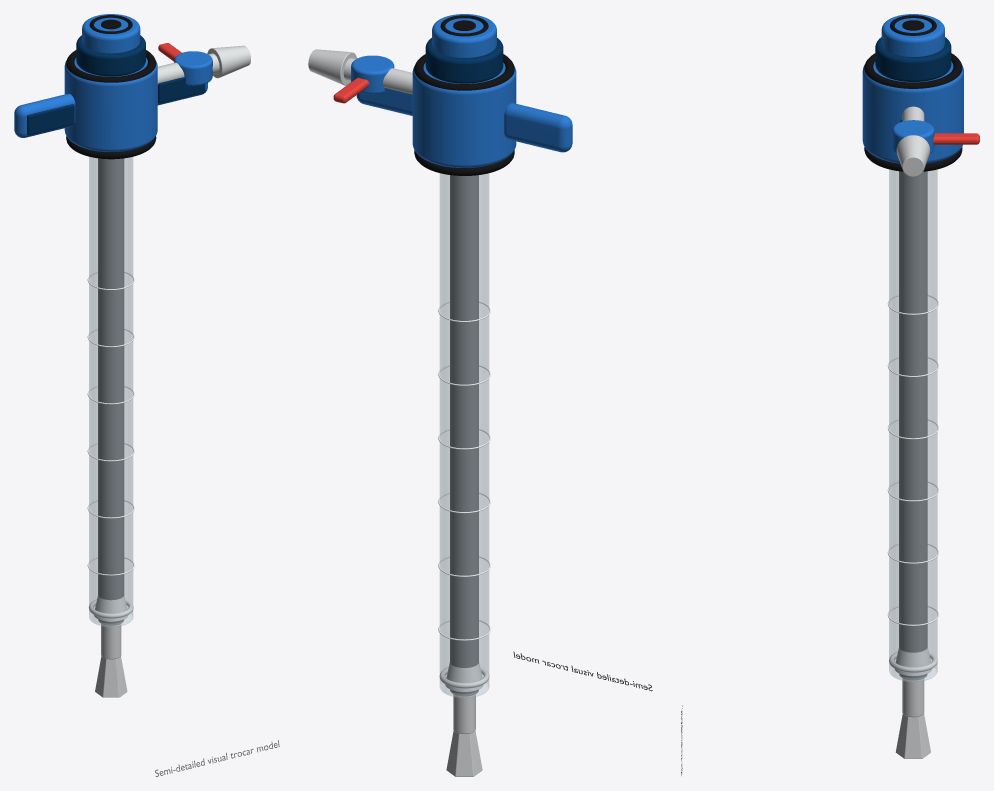
File: Trocarul.fbx
3 views of the same model, side by side, from view 1: azimuth 30°, elevation 25°; view 2: azimuth 150°, elevation 25°; view 3: azimuth 270°, elevation 25° (orthographic). The views are drawn at different scales.
Parts seen in each view (by area): view 1: transparent outer cannula tube, dark visible inner bore, blue proximal housing, dark rubber top seal, raised circular cap, left ergonomic grip wing, faceted conical obturator tip, round stopcock body, left grip rubber pad, side port tapered nozzle, upper black gasket ring, right grip rubber pad (+4 smaller); view 2: transparent outer cannula tube, dark visible inner bore, blue proximal housing, left ergonomic grip wing, dark rubber top seal, raised circular cap, faceted conical obturator tip, round stopcock body, side port tapered nozzle, upper black gasket ring, right ergonomic grip wing, central metal obturator shaft (+3 smaller); view 3: transparent outer cannula tube, dark visible inner bore, blue proximal housing, dark rubber top seal, raised circular cap, faceted conical obturator tip, side port tapered nozzle, upper black gasket ring, central metal obturator shaft, round stopcock body, smooth transition collar above tip, lower black gasket ring (+1 smaller).
Part boxes in pixels (<box>): transparent outer cannula tube: <box>89,157,133,626</box>; dark visible inner bore: <box>98,158,124,625</box>; blue proximal housing: <box>64,57,157,151</box>; dark rubber top seal: <box>76,35,145,76</box>; raised circular cap: <box>82,14,140,53</box>; left ergonomic grip wing: <box>14,94,75,137</box>; faceted conical obturator tip: <box>95,656,127,697</box>; round stopcock body: <box>174,51,212,85</box>; left grip rubber pad: <box>27,104,74,135</box>; side port tapered nozzle: <box>207,45,250,78</box>; upper black gasket ring: <box>66,50,156,82</box>; right grip rubber pad: <box>158,77,205,103</box>; transparent outer cannula tube: <box>439,173,489,697</box>; dark visible inner bore: <box>450,175,478,696</box>; blue proximal housing: <box>412,62,516,167</box>; left ergonomic grip wing: <box>504,103,572,152</box>; dark rubber top seal: <box>425,38,503,83</box>; raised circular cap: <box>432,14,496,57</box>; faceted conical obturator tip: <box>446,730,482,776</box>; round stopcock body: <box>351,55,394,94</box>; side port tapered nozzle: <box>308,49,357,85</box>; upper black gasket ring: <box>414,54,514,90</box>; right ergonomic grip wing: <box>356,88,412,115</box>; central metal obturator shaft: <box>453,694,475,734</box>; transparent outer cannula tube: <box>889,169,937,681</box>; dark visible inner bore: <box>899,171,927,680</box>; blue proximal housing: <box>862,61,963,163</box>; dark rubber top seal: <box>875,37,951,81</box>; raised circular cap: <box>881,14,944,56</box>; faceted conical obturator tip: <box>895,714,930,758</box>; side port tapered nozzle: <box>896,135,929,176</box>; upper black gasket ring: <box>864,53,962,88</box>; central metal obturator shaft: <box>902,678,924,717</box>; round stopcock body: <box>892,120,934,153</box>; smooth transition collar above tip: <box>894,647,931,676</box>; lower black gasket ring: <box>864,147,962,171</box>.
Size of the model in its own units: 275 by 761 by 283.
